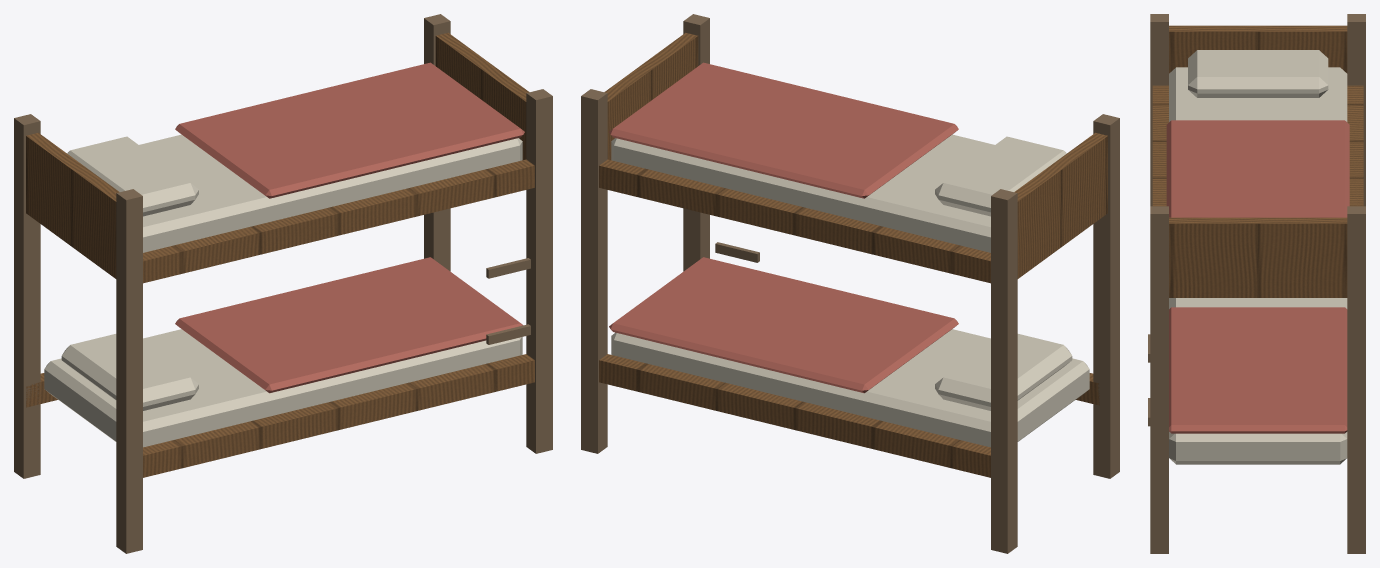
File: bunk.glb
3 renders of one model, left to right at view 1: azimuth 30°, elevation 25°; view 2: azimuth 150°, elevation 25°; view 3: azimuth 270°, elevation 25°, orthographic. The views are drawn at different scales.
Visible parts, largest first — view 1: cloth, bunk; view 2: cloth, bunk; view 3: cloth, bunk.
Boxes of the visible parts, x1,y1,x2,y2 form: cloth: [44, 62, 524, 447]; bunk: [14, 14, 552, 553]; cloth: [609, 62, 1089, 447]; bunk: [581, 14, 1119, 553]; cloth: [1166, 50, 1349, 464]; bunk: [1148, 14, 1365, 553].
Size of the model in its own units: 2.02 by 1.6 by 0.93.
4 materials, 1 textured.
